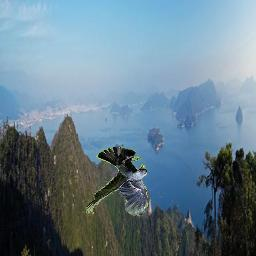Crow: (84, 148, 148, 217)
